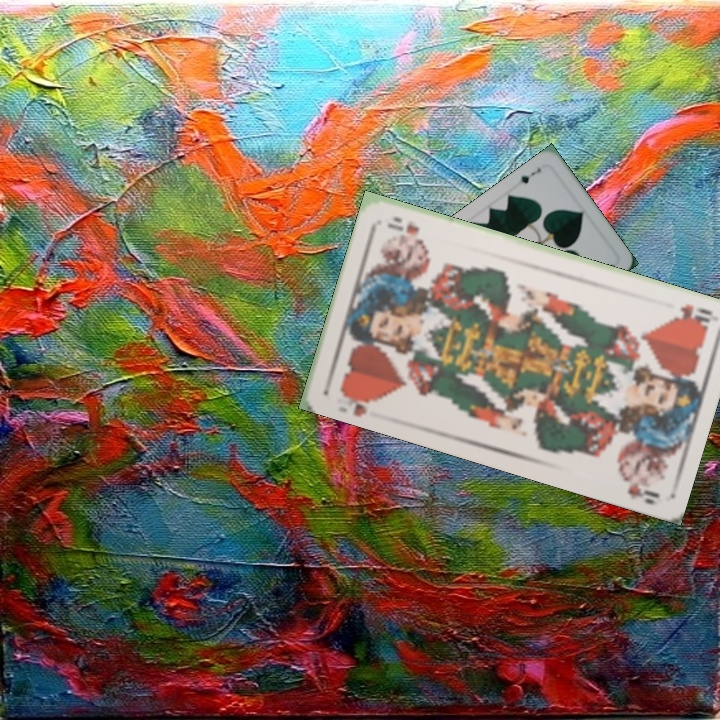G7: (516, 164, 543, 186)
HO: (336, 384, 380, 419), (671, 300, 715, 331)
